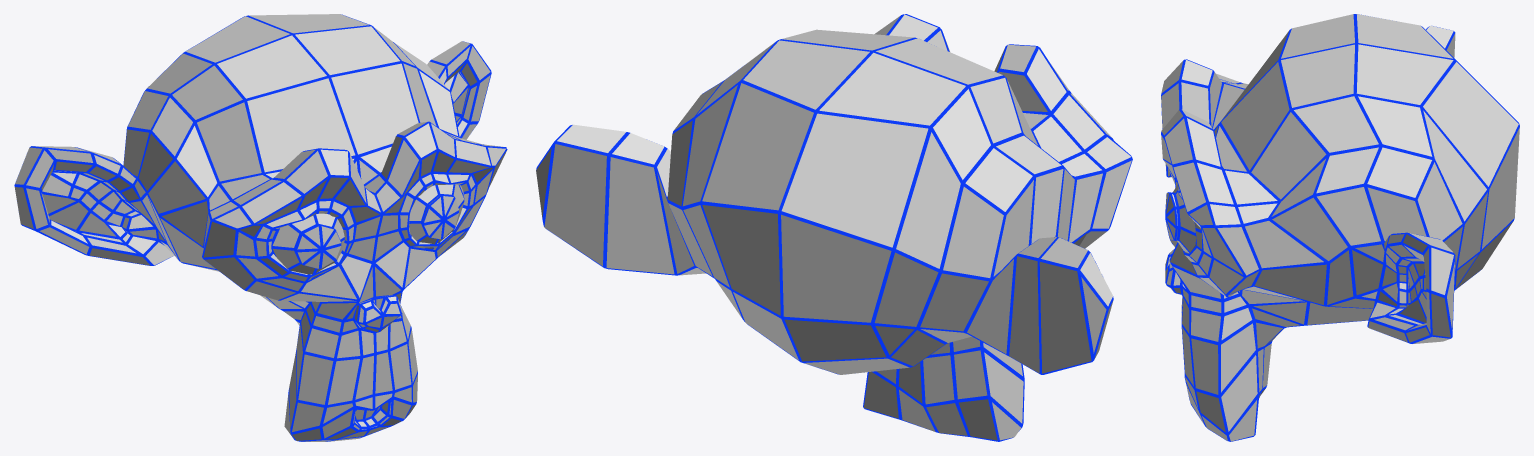
File: monkey.glb
3 renders of one model, left to right at view 1: azimuth 30°, elevation 25°; view 2: azimuth 150°, elevation 25°; view 3: azimuth 270°, elevation 25°, orthographic. The views are drawn at different scales.
Parts seen in each view (by area): view 1: Suzanne; view 2: Suzanne; view 3: Suzanne.
Part boxes in pixels (x1,y1,x2,y2): Suzanne: (14, 14, 507, 441); Suzanne: (536, 14, 1132, 441); Suzanne: (1161, 14, 1519, 441).
Size of the model in its own units: 2.73 by 1.97 by 1.7.
